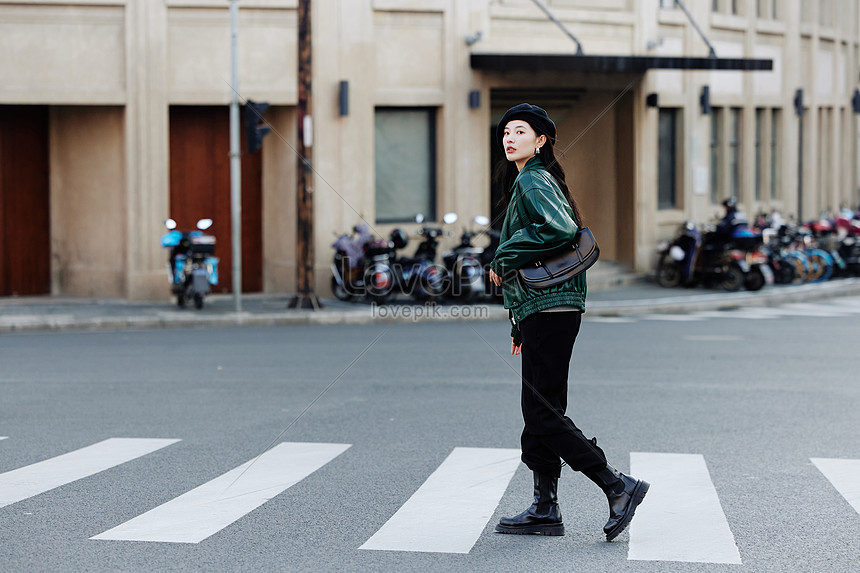person: (486, 92, 653, 547)
